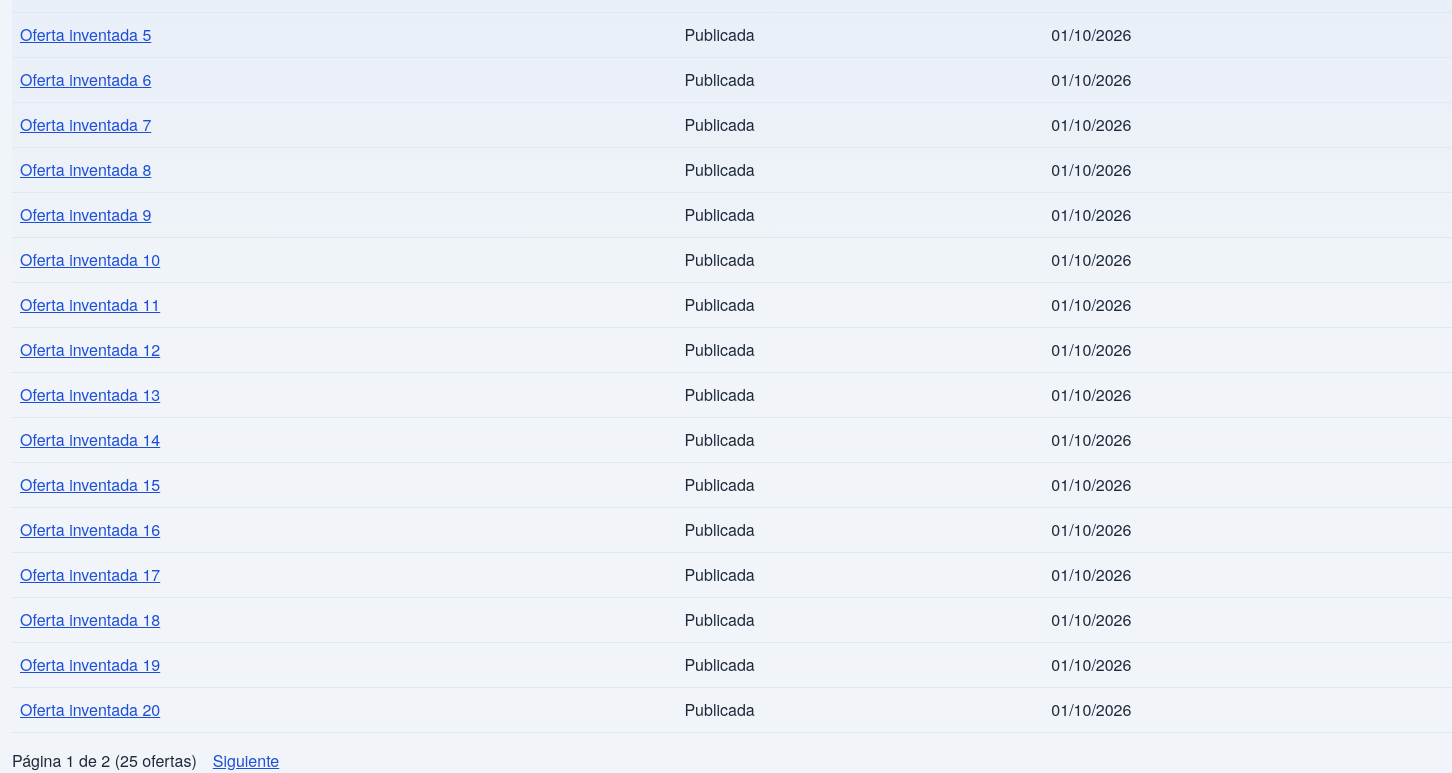
it: JobListScreen · paginación › CA-18 «Siguiente» navega a page=2 y, al terminar la carga, el foco va al h1 «Ofertas»
(page scrolled)
expect the text "Página 1 de 2 (25 ofertas)" is shown: met, box [12, 749, 197, 772]
expect the link "Anterior" is not shown: met
Click the link "Siguiente" at (246, 761), box [213, 749, 279, 772]
(page scrolled)
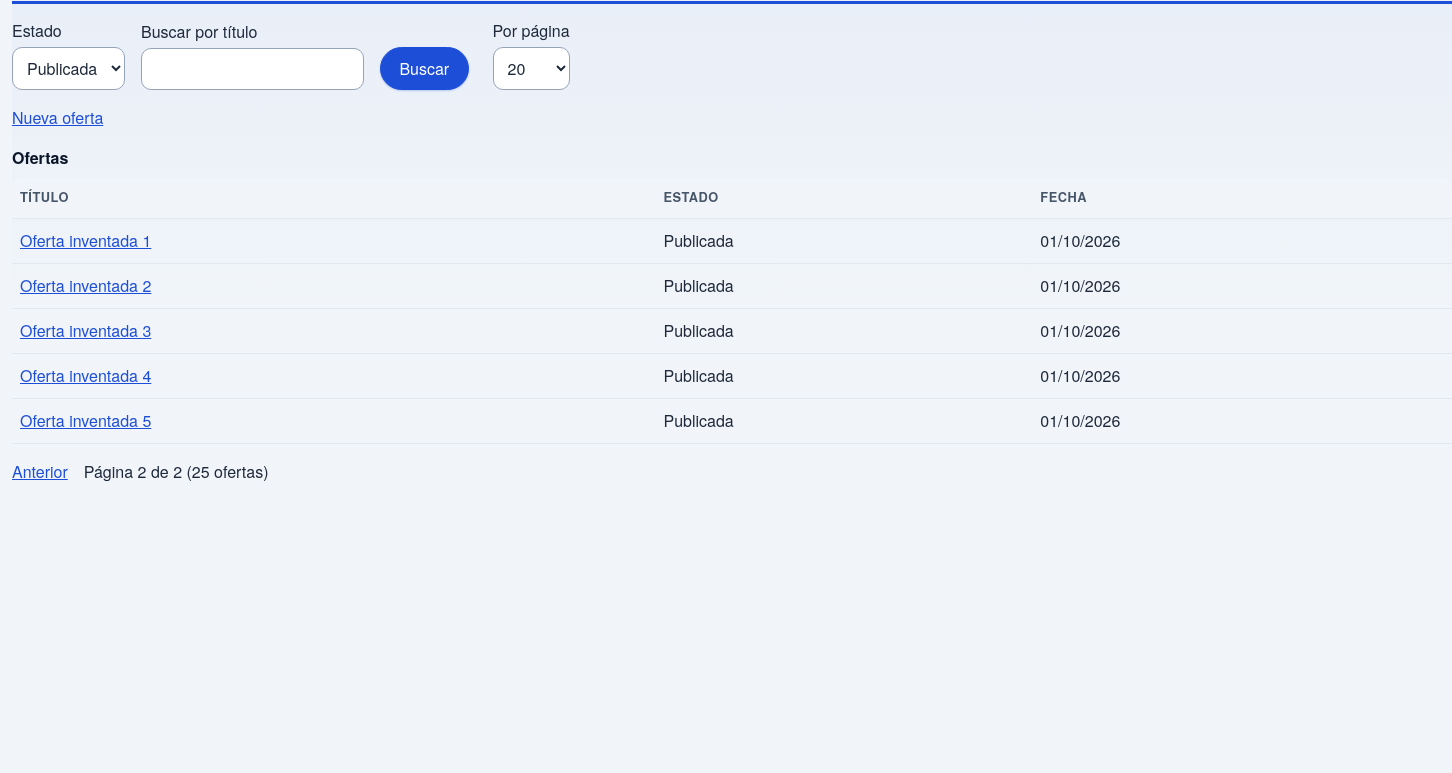
expect the text "Página 2 de 2 (25 ofertas)" is shown: met, box [84, 460, 269, 484]
expect the link "Siguiente" is gone: met
